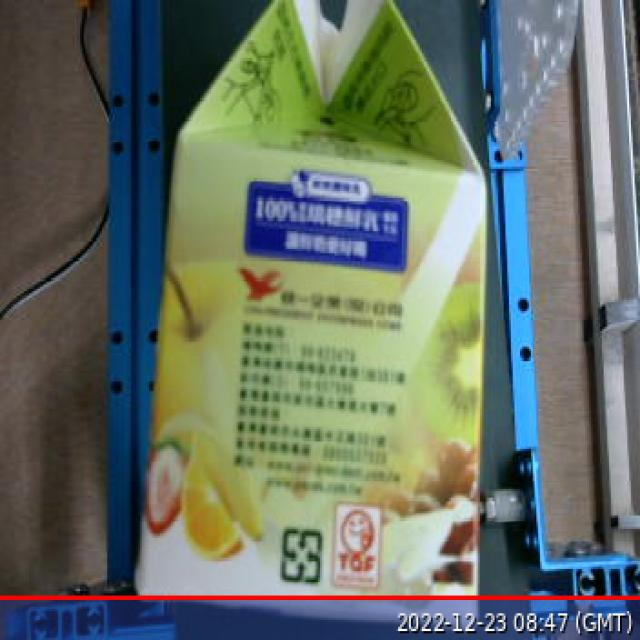non_white_jug: (110, 3, 489, 637)
